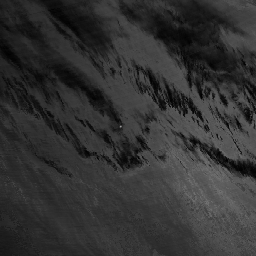Target: (118, 124, 123, 129)
